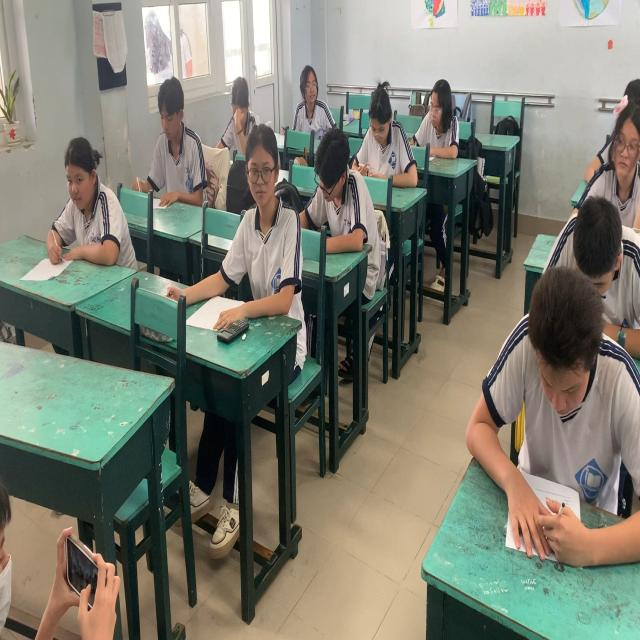cheating: (228, 117, 299, 328), (295, 58, 332, 136)
not_cheating: (505, 268, 622, 544), (542, 190, 640, 313), (39, 134, 129, 266), (146, 71, 208, 211), (308, 117, 369, 252), (404, 62, 467, 158), (601, 82, 640, 223), (360, 74, 410, 178), (219, 59, 253, 153)
